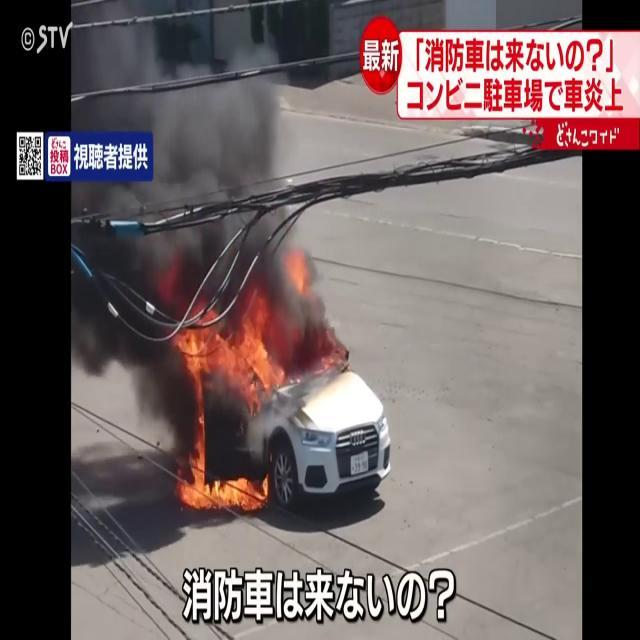Fire: (173, 296, 287, 409), (180, 468, 268, 516)
Smoke: (70, 5, 332, 412)
